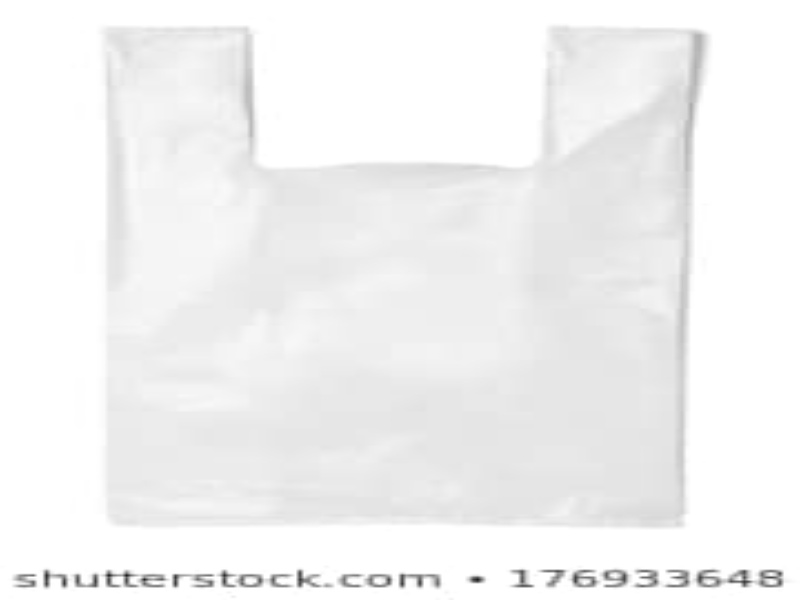plastic-bag: (103, 18, 693, 526)
